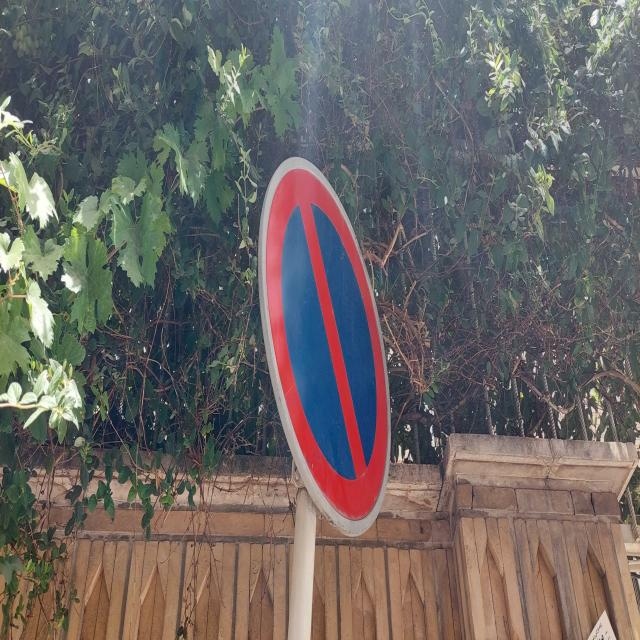forb_stopping: (260, 156, 392, 533)
